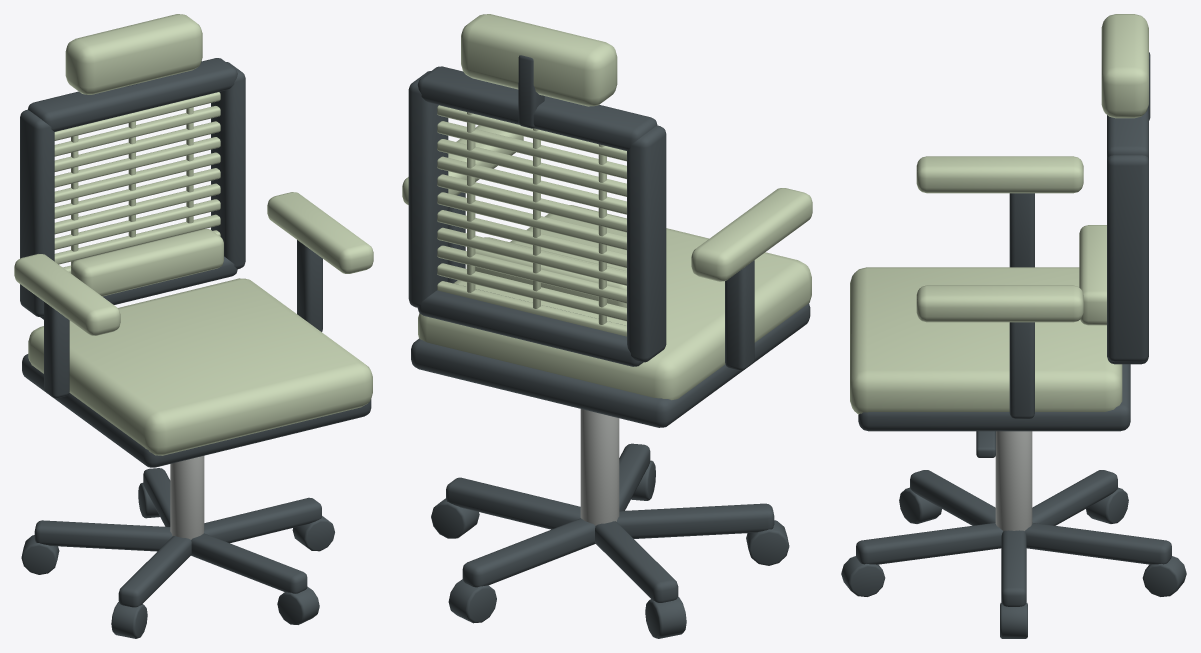
The model's file is ergonomic-office-chair.glb.
The picture shows the model from 3 angles, left to right: view 1: azimuth 30°, elevation 25°; view 2: azimuth 150°, elevation 25°; view 3: azimuth 270°, elevation 25°; orthographic projection. The views are drawn at different scales.
Parts seen in each view (by area): view 1: ergonomic-office-chair; view 2: ergonomic-office-chair; view 3: ergonomic-office-chair.
Part boxes in pixels (x1,y1,x2,y2): ergonomic-office-chair: (14,14,373,638); ergonomic-office-chair: (402,14,812,638); ergonomic-office-chair: (841,14,1186,638).
Bounding box in the file's own units: 0.66 × 1.12 × 0.66.
